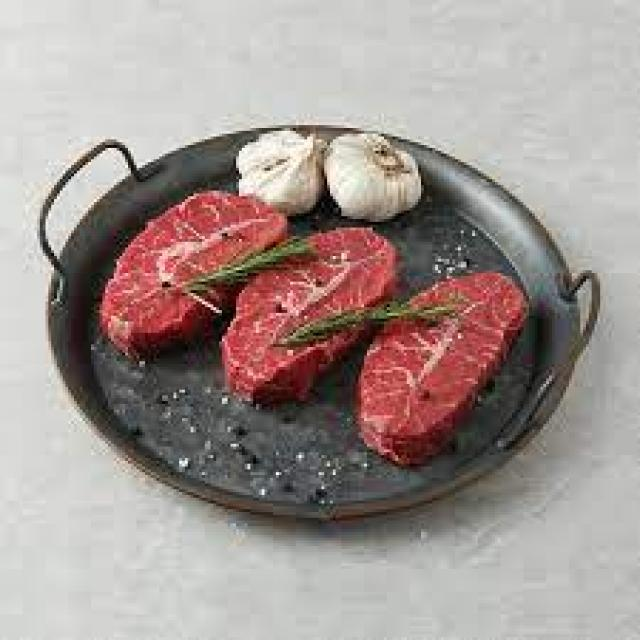Beef: (358, 273, 529, 466), (100, 191, 290, 360), (222, 228, 398, 405)
